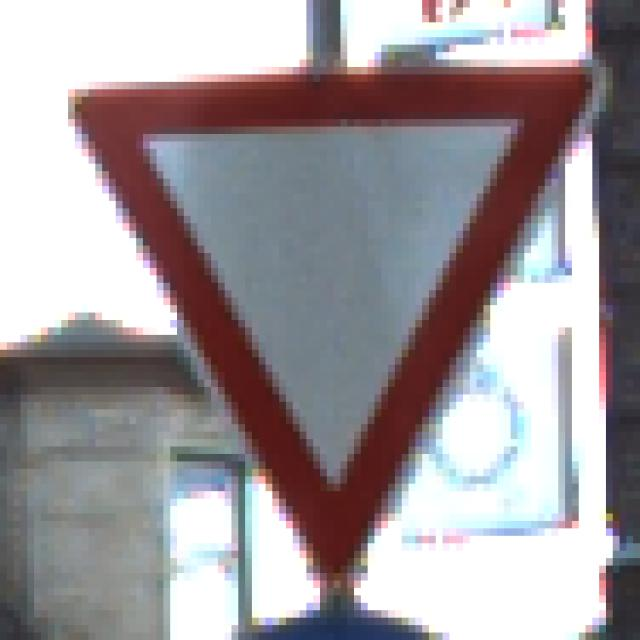Give Way: (56, 53, 587, 589)
